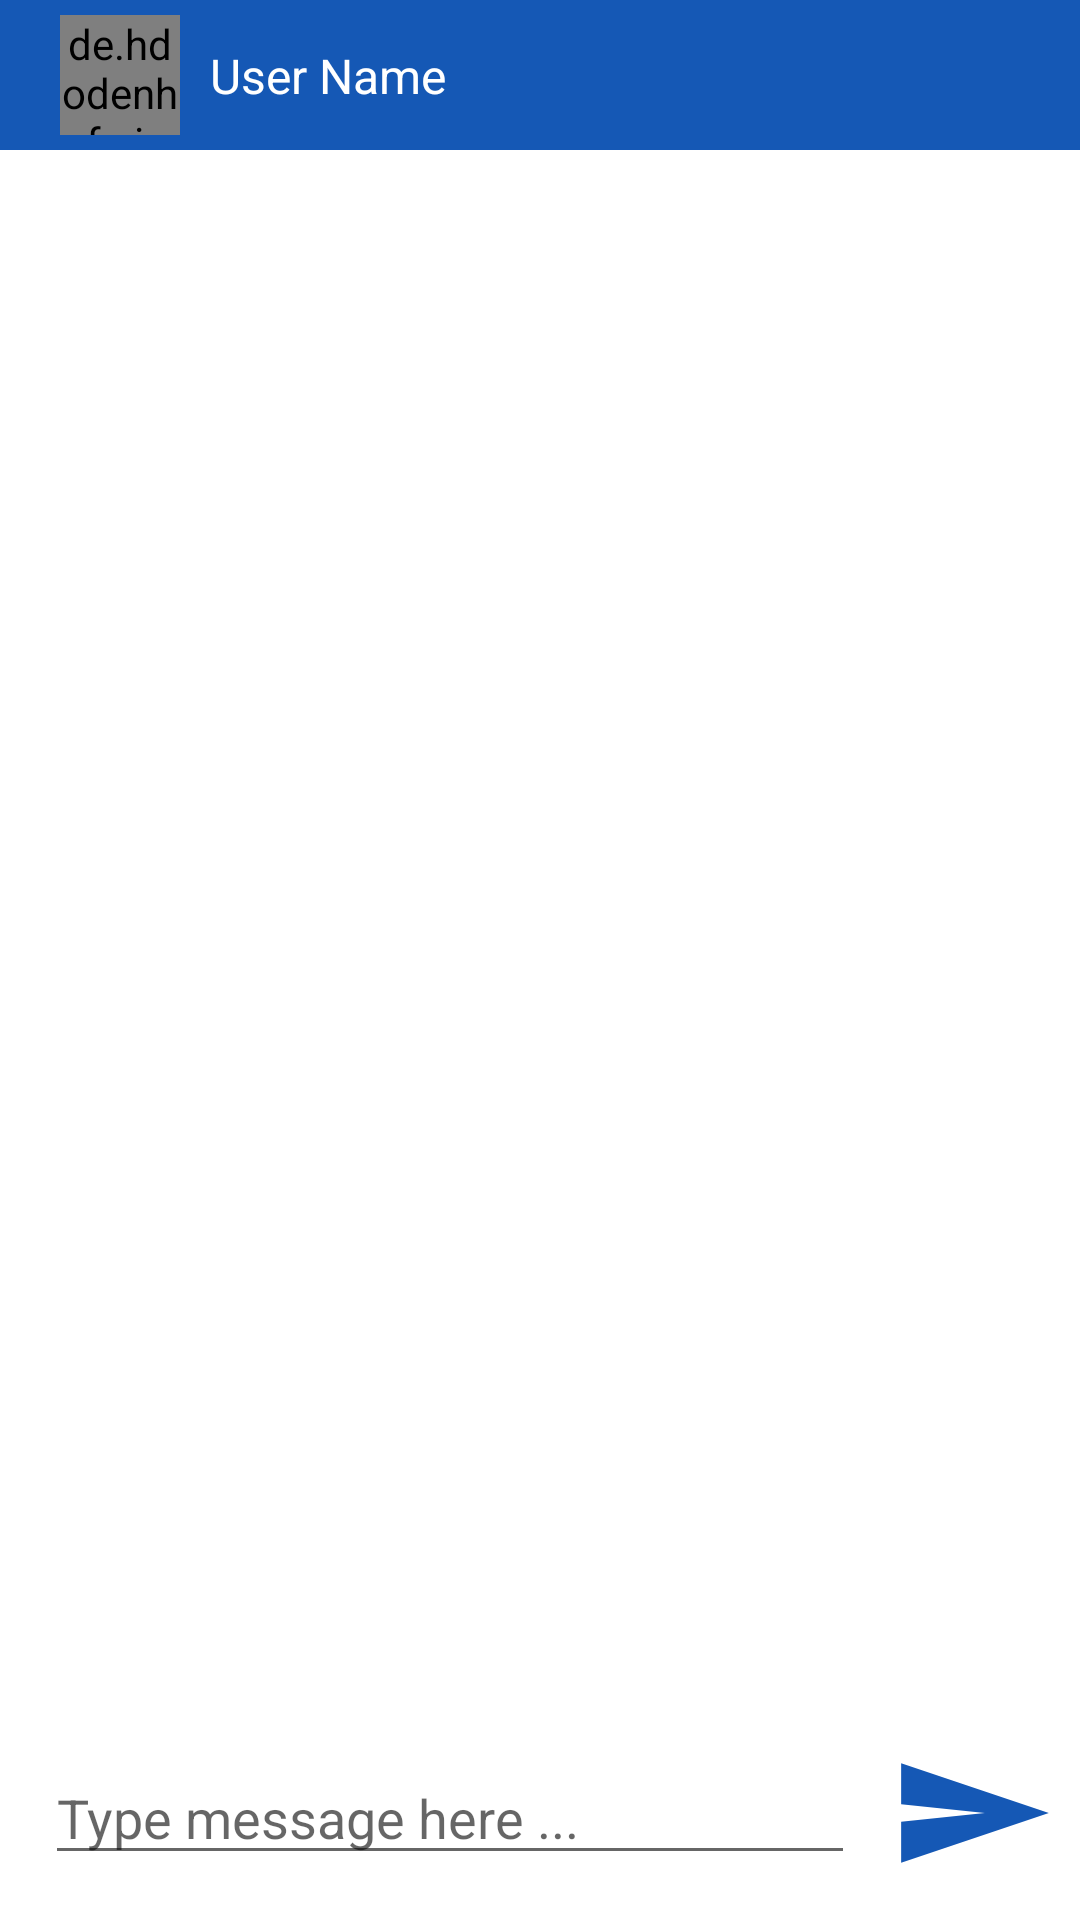

Icon bounding boxes for this 1080px x 1920px phone screenshot, format box(x1, y1, x2, y2):
send message: box(901, 1763, 1049, 1863)
